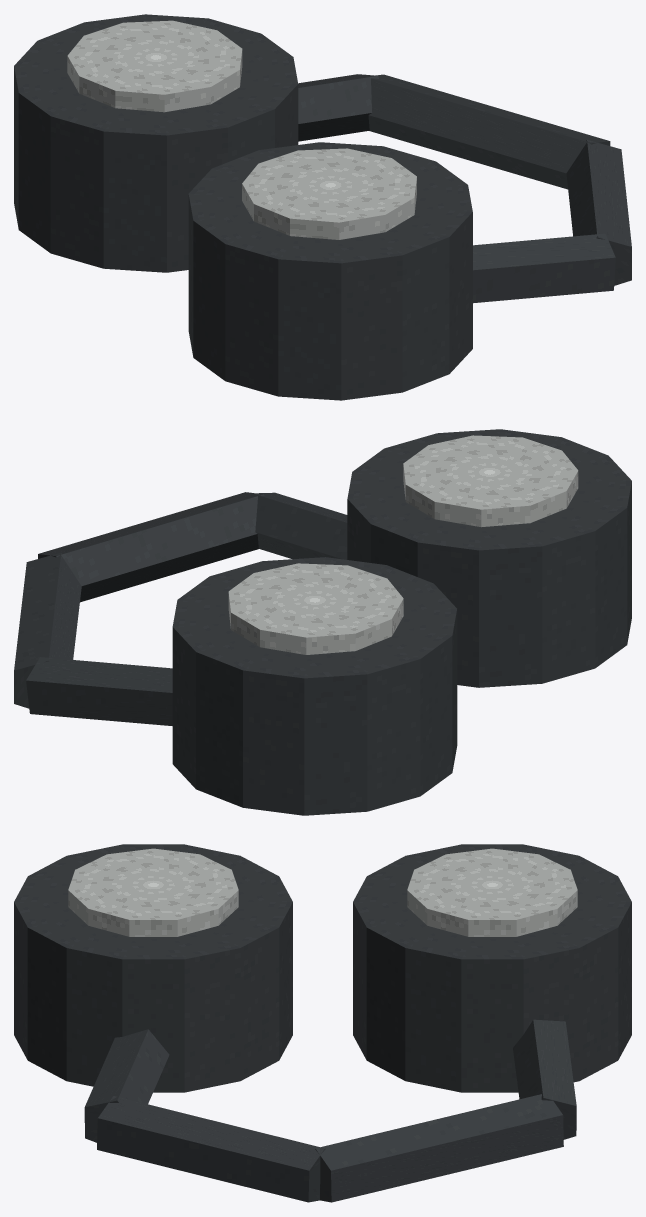
Rendered from scuba_regulator.glb.
3 renders of one model, top to bottom at view 1: azimuth 30°, elevation 25°; view 2: azimuth 150°, elevation 25°; view 3: azimuth 270°, elevation 25°, orthographic. The views are drawn at different scales.
Visible parts, largest first — view 1: block_round valve housing (×2), block_valve cover (×2), block_breathing hose 2, block_breathing hose 0, block_breathing hose 1, block_breathing hose 3; view 2: block_round valve housing (×2), block_valve cover (×2), block_breathing hose 1, block_breathing hose 3, block_breathing hose 2, block_breathing hose 0; view 3: block_round valve housing (×2), block_valve cover (×2), block_breathing hose 2, block_breathing hose 1, block_breathing hose 3, block_breathing hose 0.
Boxes of the visible parts, x1,y1,x2,y2 form: block_round valve housing (×2): (14,14,472,400); block_valve cover (×2): (67,20,416,239); block_breathing hose 2: (365,74,610,189); block_breathing hose 0: (473,233,615,303); block_breathing hose 1: (566,139,631,285); block_breathing hose 3: (298,74,378,141); block_round valve housing (×2): (172,429,631,815); block_valve cover (×2): (228,435,578,654); block_breathing hose 1: (38,492,264,602); block_breathing hose 3: (26,657,172,725); block_breathing hose 2: (14,552,81,708); block_breathing hose 0: (251,492,347,559); block_round valve housing (×2): (14,844,631,1092); block_valve cover (×2): (68,848,577,936); block_breathing hose 2: (315,1092,563,1202); block_breathing hose 1: (97,1096,325,1202); block_breathing hose 3: (513,1019,576,1139); block_breathing hose 0: (84,1029,169,1142).
Bounding box in the file's own units: 0.2566 × 0.0779 × 0.2873.
Materials: 1 (1 with a texture image).
